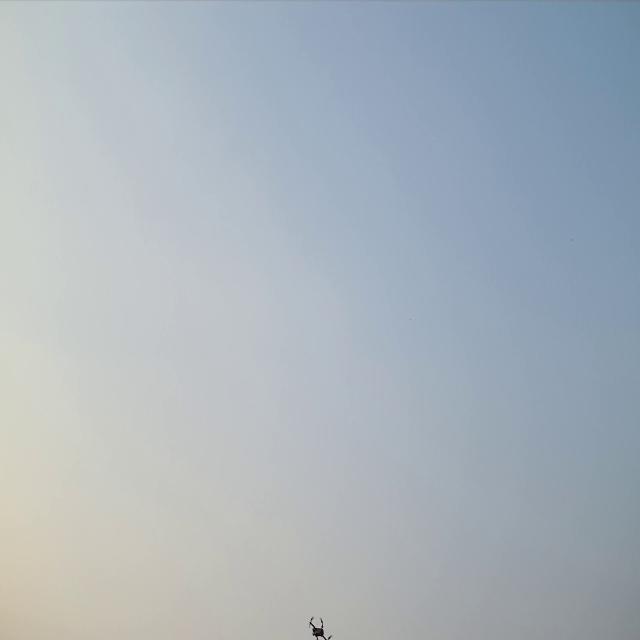UAV: (308, 610, 334, 640)
